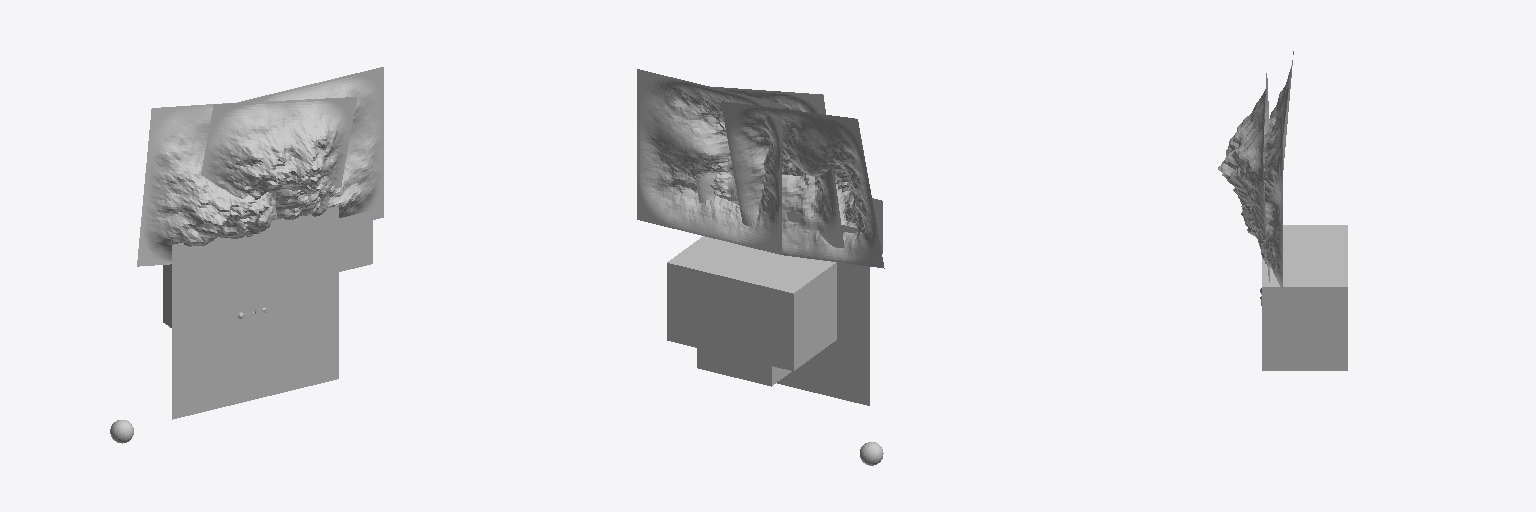
3 views of the same model, side by side, from view 1: azimuth 30°, elevation 25°; view 2: azimuth 150°, elevation 25°; view 3: azimuth 270°, elevation 25° (orthographic).
Visible parts, largest first — view 1: Plane_Plane, Landscape.002_Landscape.002, Landscape_Landscape.002, Plane.001_Plane.001, Landscape.001_Landscape.002, Cube_Cube.004; view 2: Landscape.001_Landscape.002, Landscape_Landscape.002, Cube_Cube.004, Cube.001_Cube.004, Plane_Plane, Landscape.002_Landscape.002, Cube.003_Cube.004; view 3: Cube.001_Cube.004, Landscape.002_Landscape.002, Landscape.001_Landscape.002, Cube_Cube.004, Landscape_Landscape.002.
Boxes of the visible parts, x1,y1,x2,y2 form: Plane_Plane: [172, 206, 338, 419]; Landscape.002_Landscape.002: [201, 97, 356, 236]; Landscape_Landscape.002: [137, 102, 276, 266]; Plane.001_Plane.001: [209, 210, 372, 303]; Landscape.001_Landscape.002: [239, 67, 383, 219]; Cube_Cube.004: [163, 264, 171, 327]; Landscape.001_Landscape.002: [637, 69, 781, 254]; Landscape_Landscape.002: [721, 101, 884, 268]; Cube_Cube.004: [719, 249, 836, 370]; Cube.001_Cube.004: [667, 236, 754, 357]; Plane_Plane: [717, 194, 869, 405]; Landscape.002_Landscape.002: [696, 86, 844, 247]; Cube.003_Cube.004: [697, 301, 791, 386]; Cube.001_Cube.004: [1262, 251, 1347, 364]; Landscape.002_Landscape.002: [1218, 73, 1269, 281]; Landscape.001_Landscape.002: [1241, 112, 1282, 292]; Cube_Cube.004: [1283, 225, 1347, 250]; Landscape_Landscape.002: [1269, 51, 1293, 169].
Bounding box in the file's own units: 24.84 × 30.99 × 11.28.